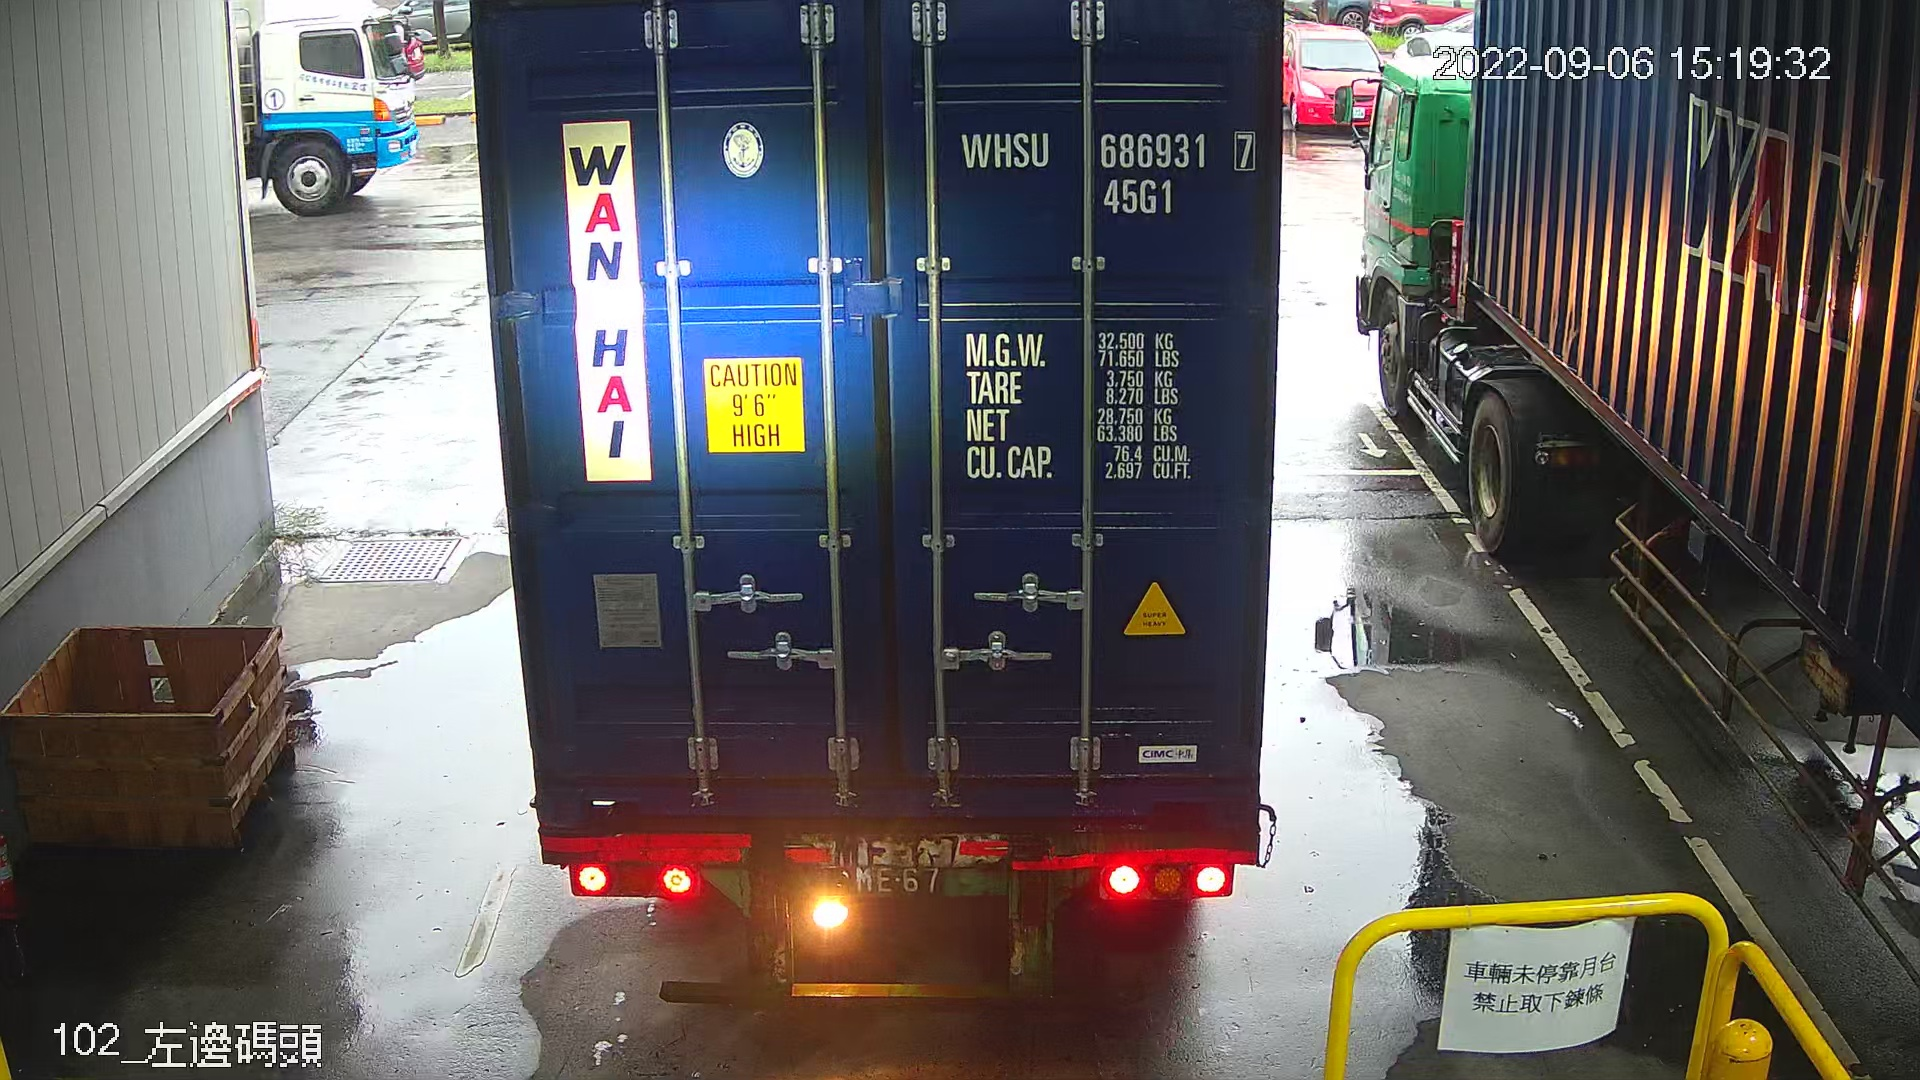container: (939, 111, 1267, 227)
